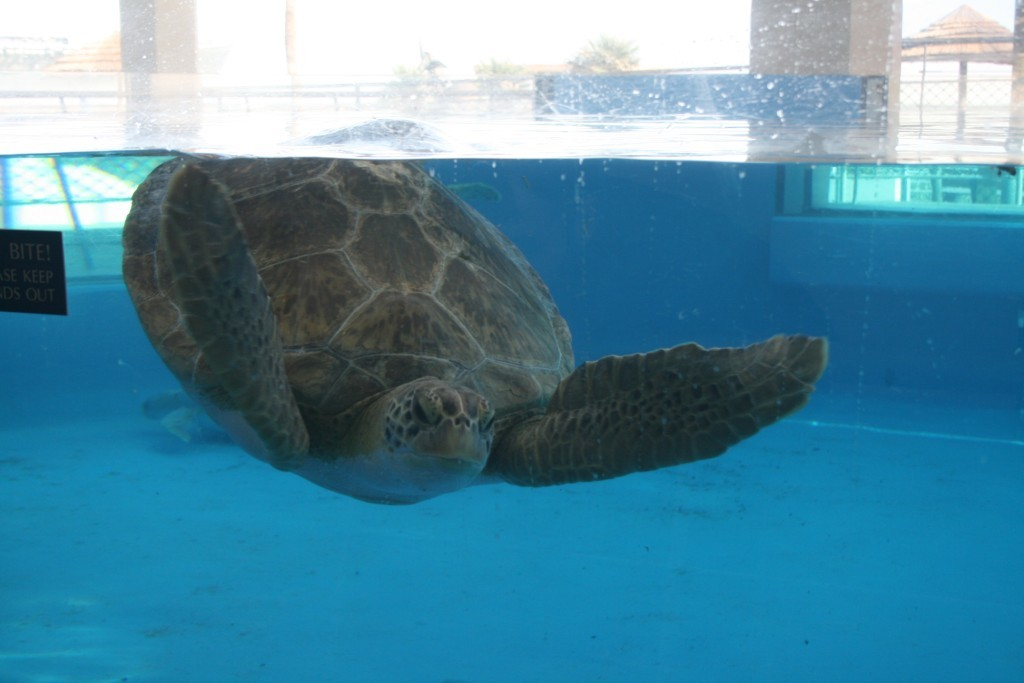Sea turtles: (124, 158, 830, 512)
